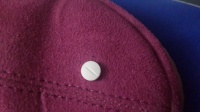Arveles: (80, 60, 102, 82)
